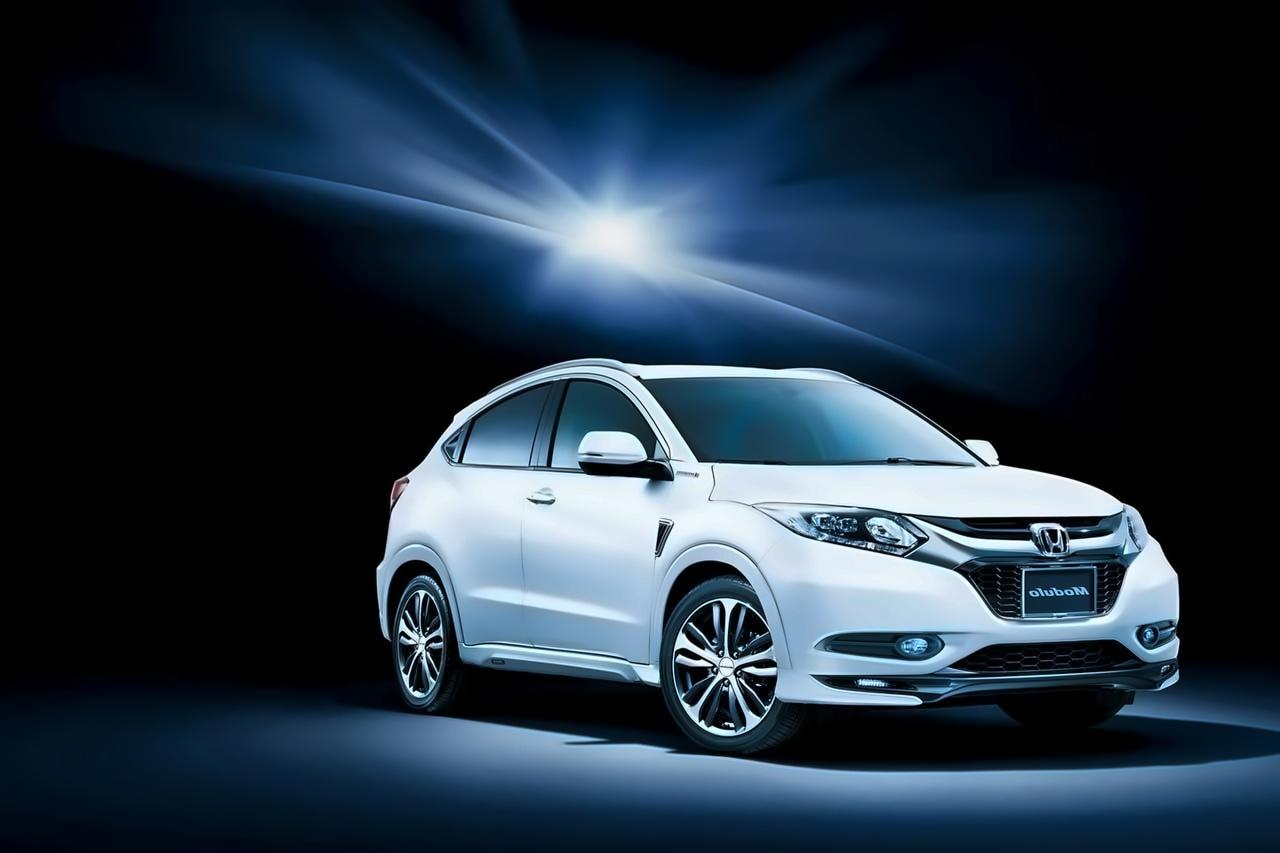Car hood: (700, 457, 1142, 531)
Driver-s door - -F-R-: (513, 356, 669, 682)
Fender - -F-R-: (652, 530, 790, 638)
Fender - -R-R-: (377, 534, 470, 592)
Front bumper: (753, 553, 1185, 716)
Headlight - -L-: (1117, 503, 1158, 554)
Headlight - -R-: (752, 499, 928, 558)
Passenger-s door - -R-R-: (444, 363, 579, 672)
Rear bumper: (357, 540, 397, 649)
Rear light - -R-: (384, 470, 409, 511)
Side bumper - -R-: (453, 619, 668, 697)
Side mirror - -L-: (954, 437, 1004, 472)
Side mirror - -R-: (574, 432, 670, 480)
